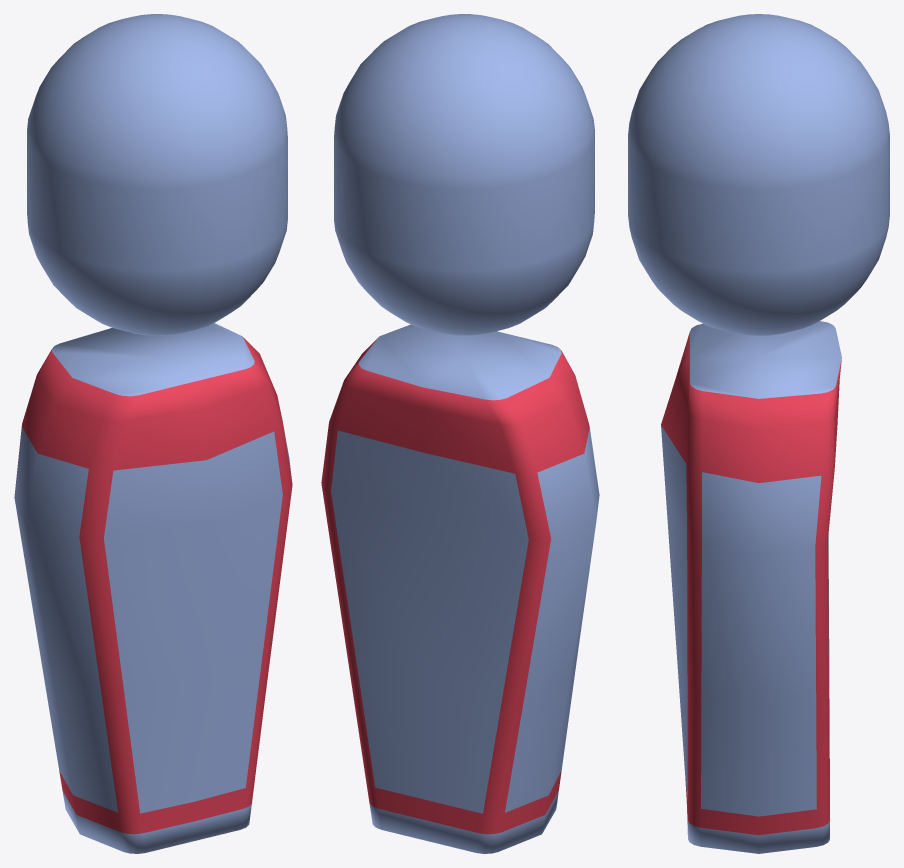
File: MultiPlayerCharacter.fbx
3 renders of one model, left to right at view 1: azimuth 30°, elevation 25°; view 2: azimuth 150°, elevation 25°; view 3: azimuth 270°, elevation 25°, orthographic.
Visible parts, largest first — view 1: PlayerBody; view 2: PlayerBody; view 3: PlayerBody.
Boxes of the visible parts, x1=… form: PlayerBody: x1=14, y1=14, x2=292, y2=853; PlayerBody: x1=321, y1=14, x2=599, y2=853; PlayerBody: x1=628, y1=14, x2=889, y2=853.
Size of the model in its own units: 214 by 613 by 184.
